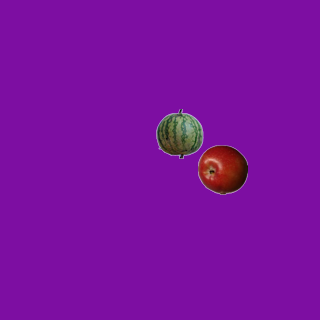Apple Braeburn: (197, 144, 247, 194)
Watermelon: (154, 108, 204, 158)
